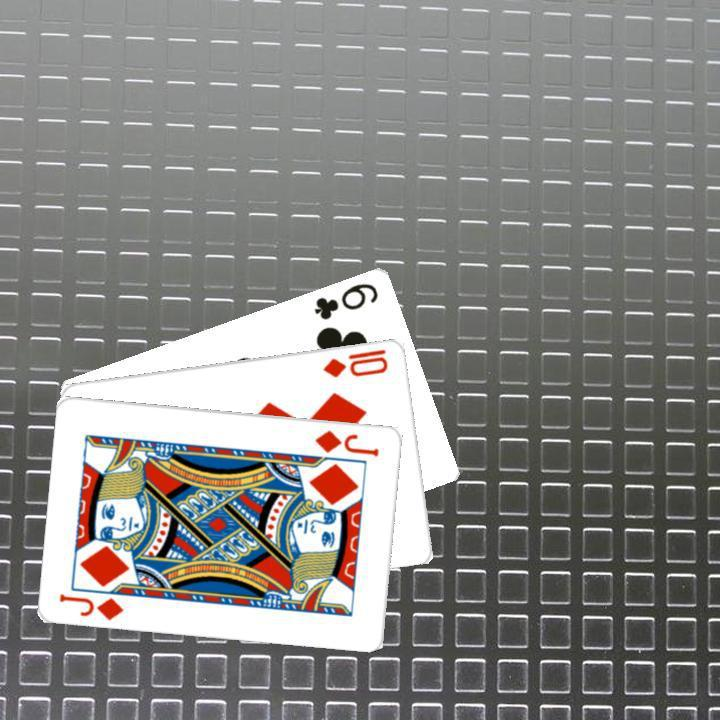10: (319, 344, 391, 379)
6: (310, 278, 381, 322)
J: (311, 425, 381, 459), (55, 589, 126, 622)
